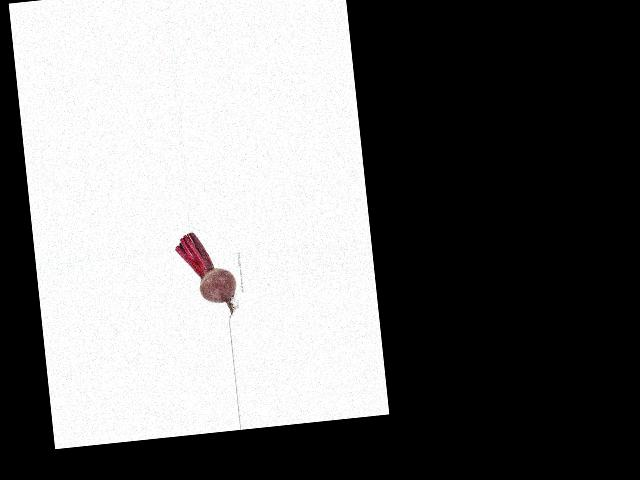beet: (174, 228, 239, 322)
